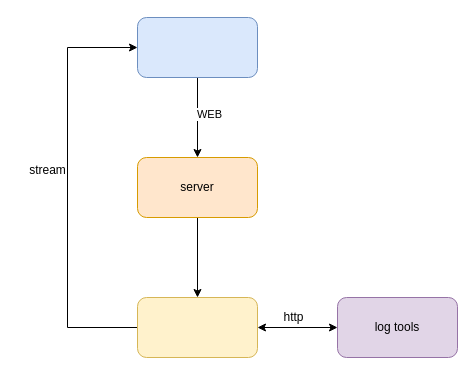
The diagram is 475 pixels wide and 375 high, and some of its shapes have lost their labels. The shapes that lost their labels are listed below. From the top down, each one's centre as x and y in pixels, then its label:
(x=197, y=47): user_input: agent_name msg log file
(x=197, y=327): agents
